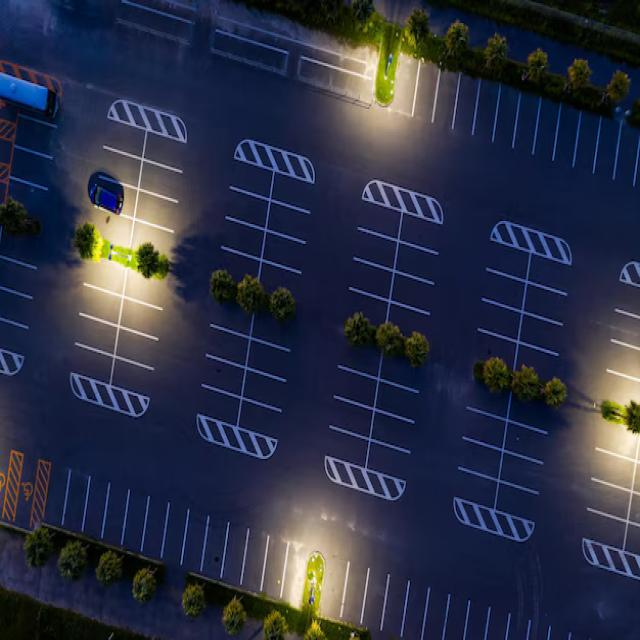discapacitados: (0, 447, 56, 545)
libre: (48, 464, 568, 638), (387, 49, 638, 196), (441, 374, 559, 523), (85, 115, 192, 267), (64, 259, 173, 401), (187, 296, 298, 433), (342, 196, 446, 336), (472, 241, 574, 382), (321, 335, 422, 476), (218, 155, 312, 301), (583, 419, 639, 557), (603, 284, 638, 410)
